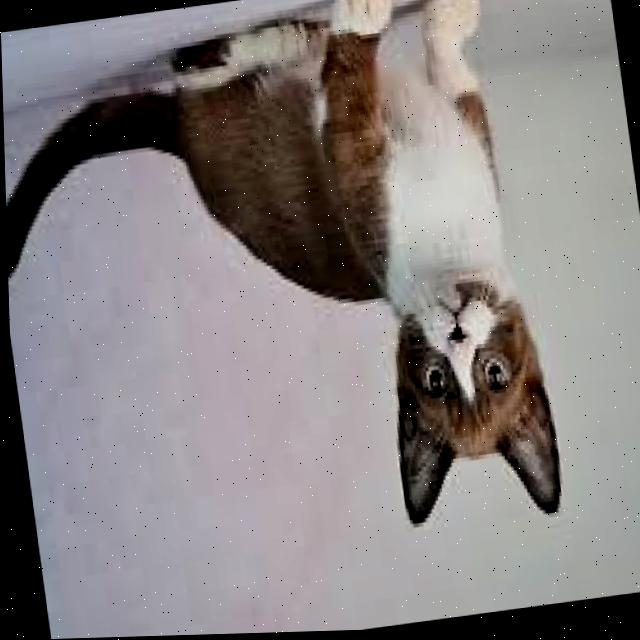Munchkin: (0, 0, 571, 594)
